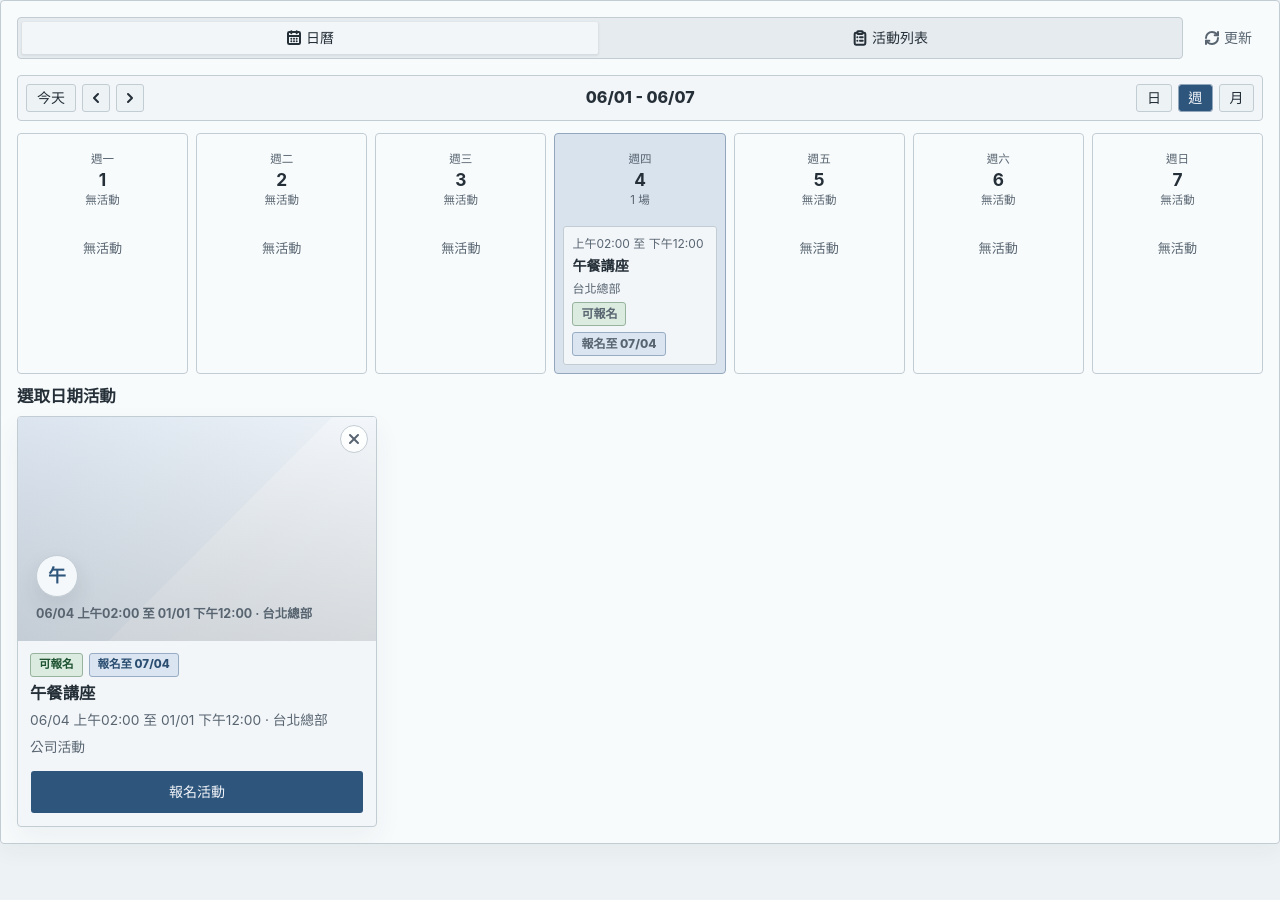
EmployeeEventsPage hide event › hides an event from the calendar but keeps it flagged in the list
Click the button named "隱藏活動：午餐講座": {"x": 354, "y": 439} [340, 425, 368, 453]
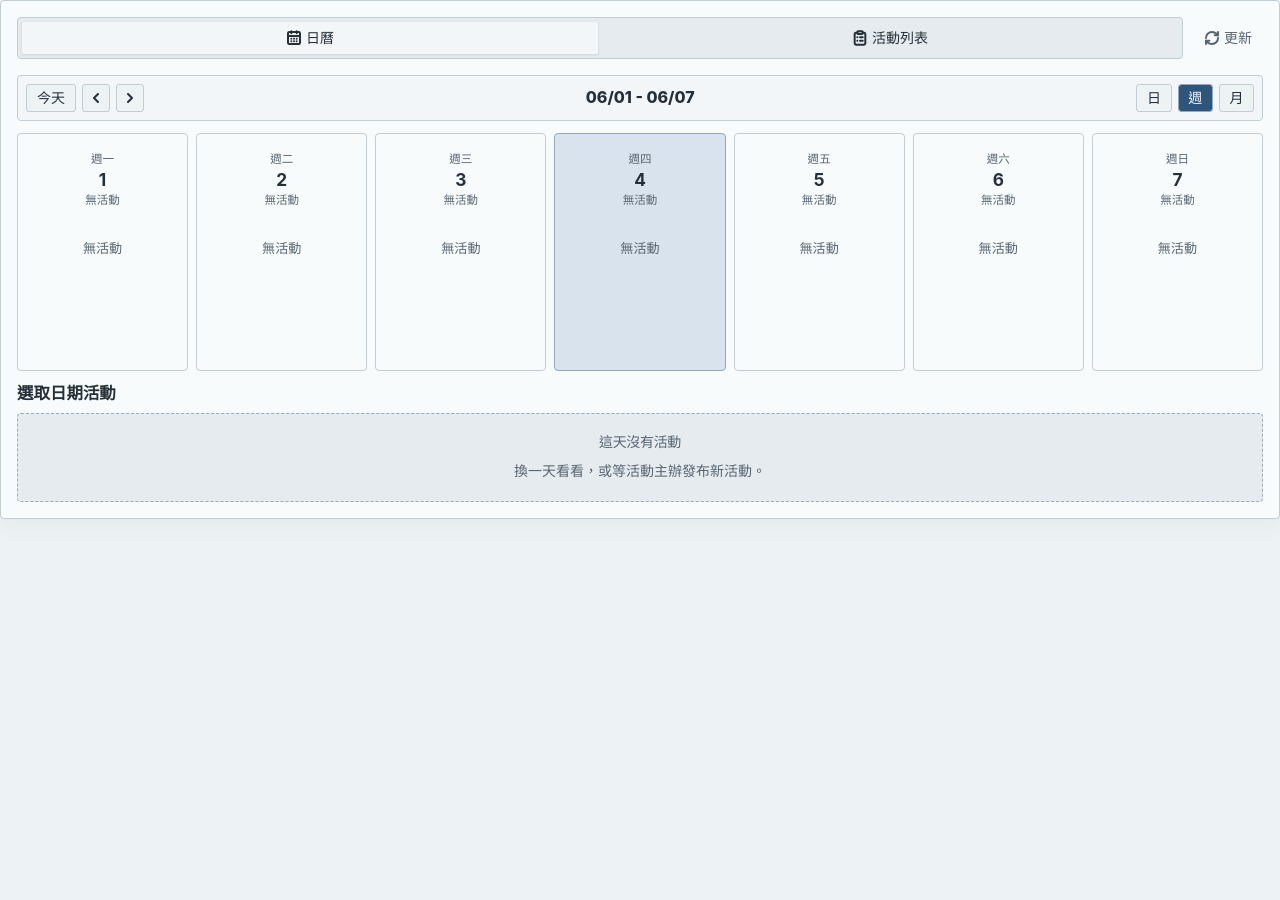
Check: the link "午餐講座" is gone
Click the tab "活動列表": {"x": 890, "y": 38} [601, 21, 1179, 55]
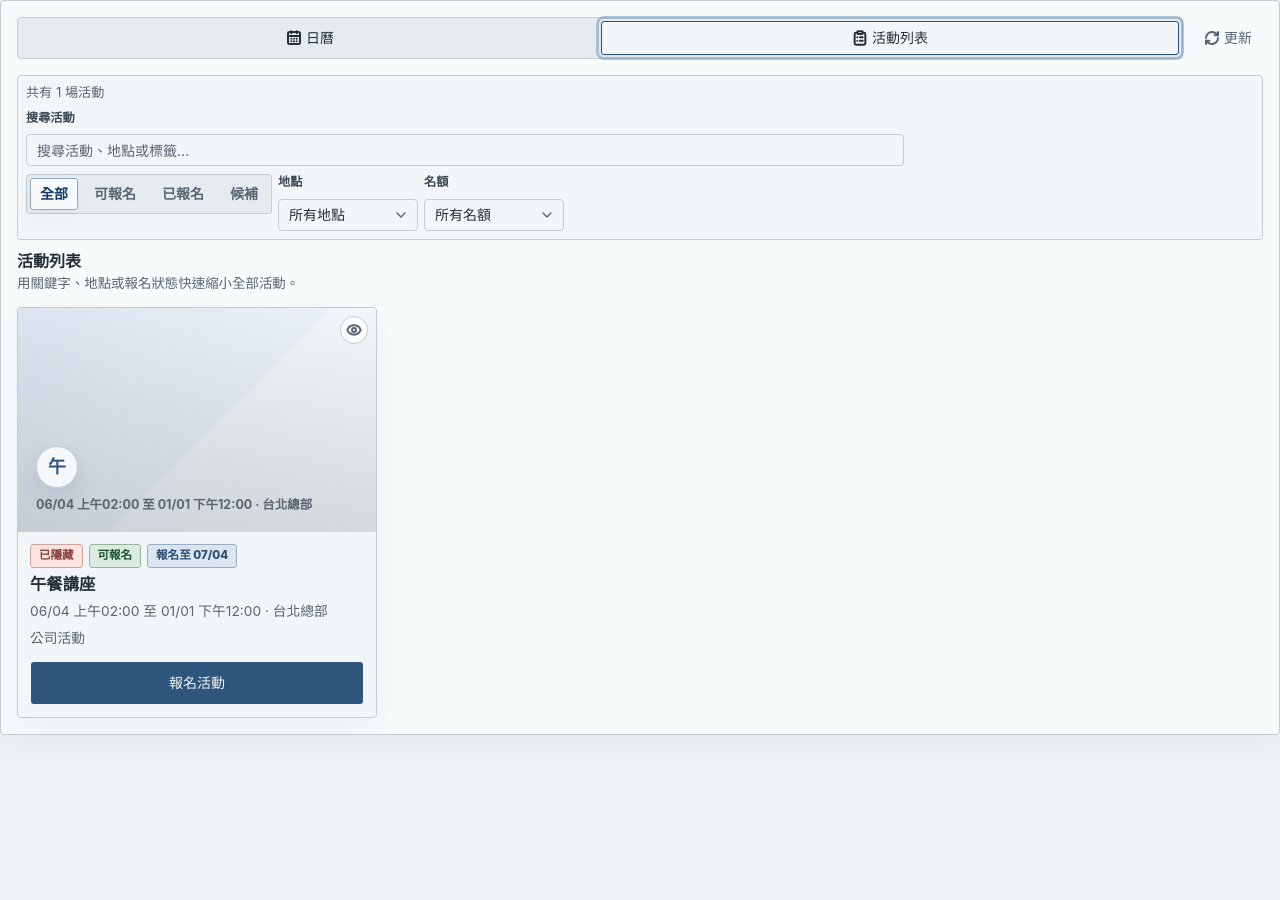
Check: the heading "午餐講座" is shown, box [30, 574, 95, 594]
Check: the icon "已隱藏" is shown, box [30, 544, 82, 568]
Click the button named "取消隱藏活動：午餐講座": {"x": 354, "y": 330} [340, 316, 368, 344]
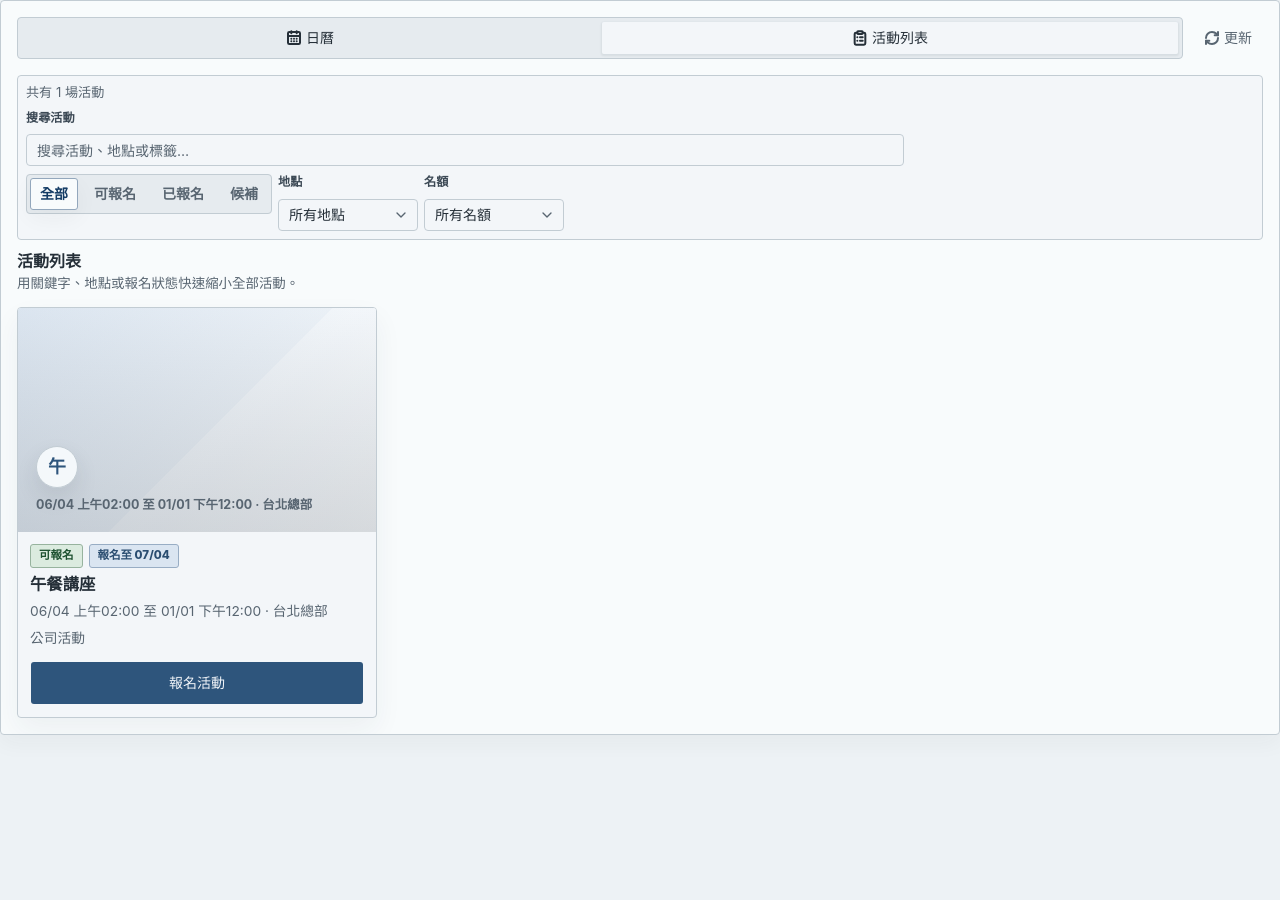
Check: the icon "已隱藏" is gone
